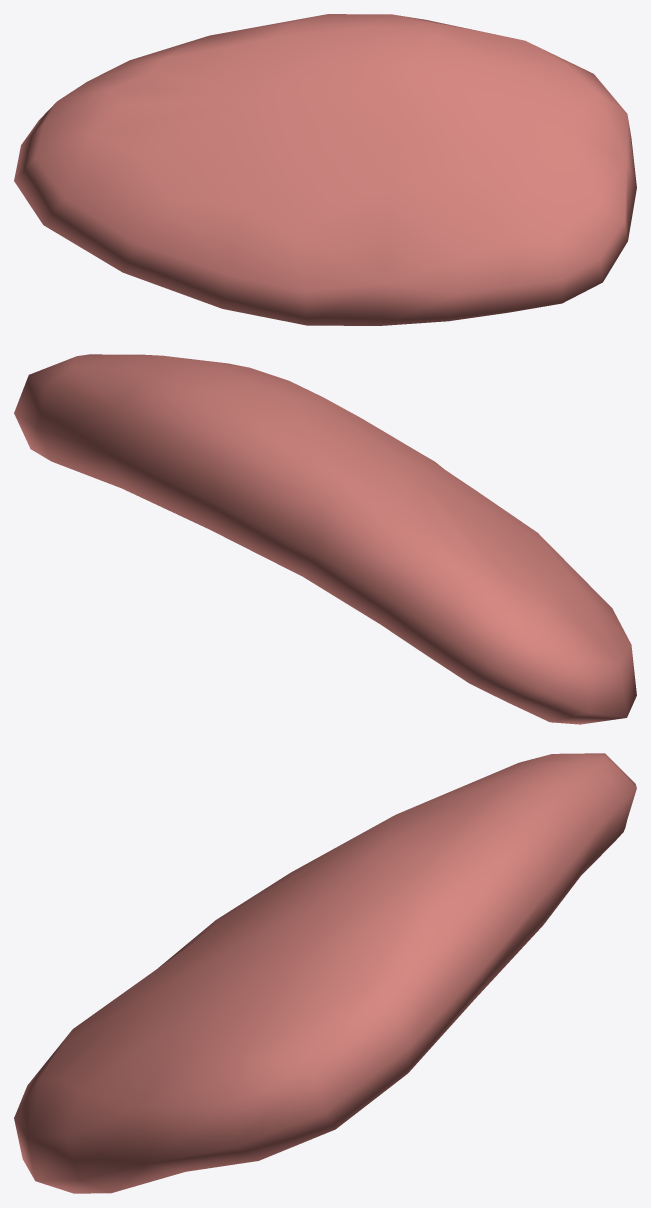
3 views of the same model, one above another, from view 1: azimuth 30°, elevation 25°; view 2: azimuth 150°, elevation 25°; view 3: azimuth 270°, elevation 25° (orthographic). The views are drawn at different scales.
Parts seen in each view (by area): view 1: ZA_70a50321a3ef70e0; view 2: ZA_70a50321a3ef70e0; view 3: ZA_70a50321a3ef70e0.
Boxes of the visible parts, bbox=[...] form: ZA_70a50321a3ef70e0: bbox=[14, 14, 636, 325]; ZA_70a50321a3ef70e0: bbox=[14, 354, 636, 724]; ZA_70a50321a3ef70e0: bbox=[14, 753, 636, 1193].
Bounding box in the file's own units: 0.0036 × 0.00138 × 0.00267.
